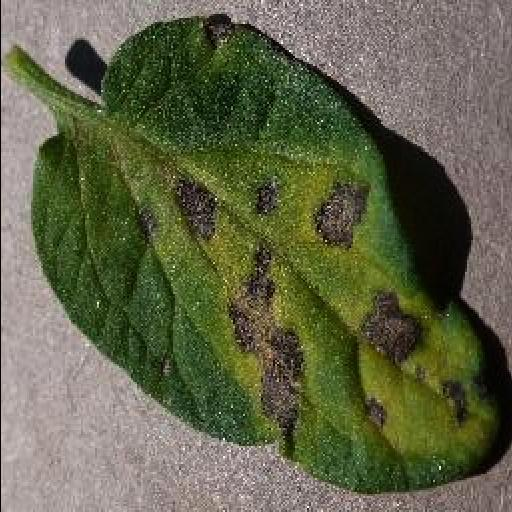disease_tomato: (31, 16, 509, 494)
